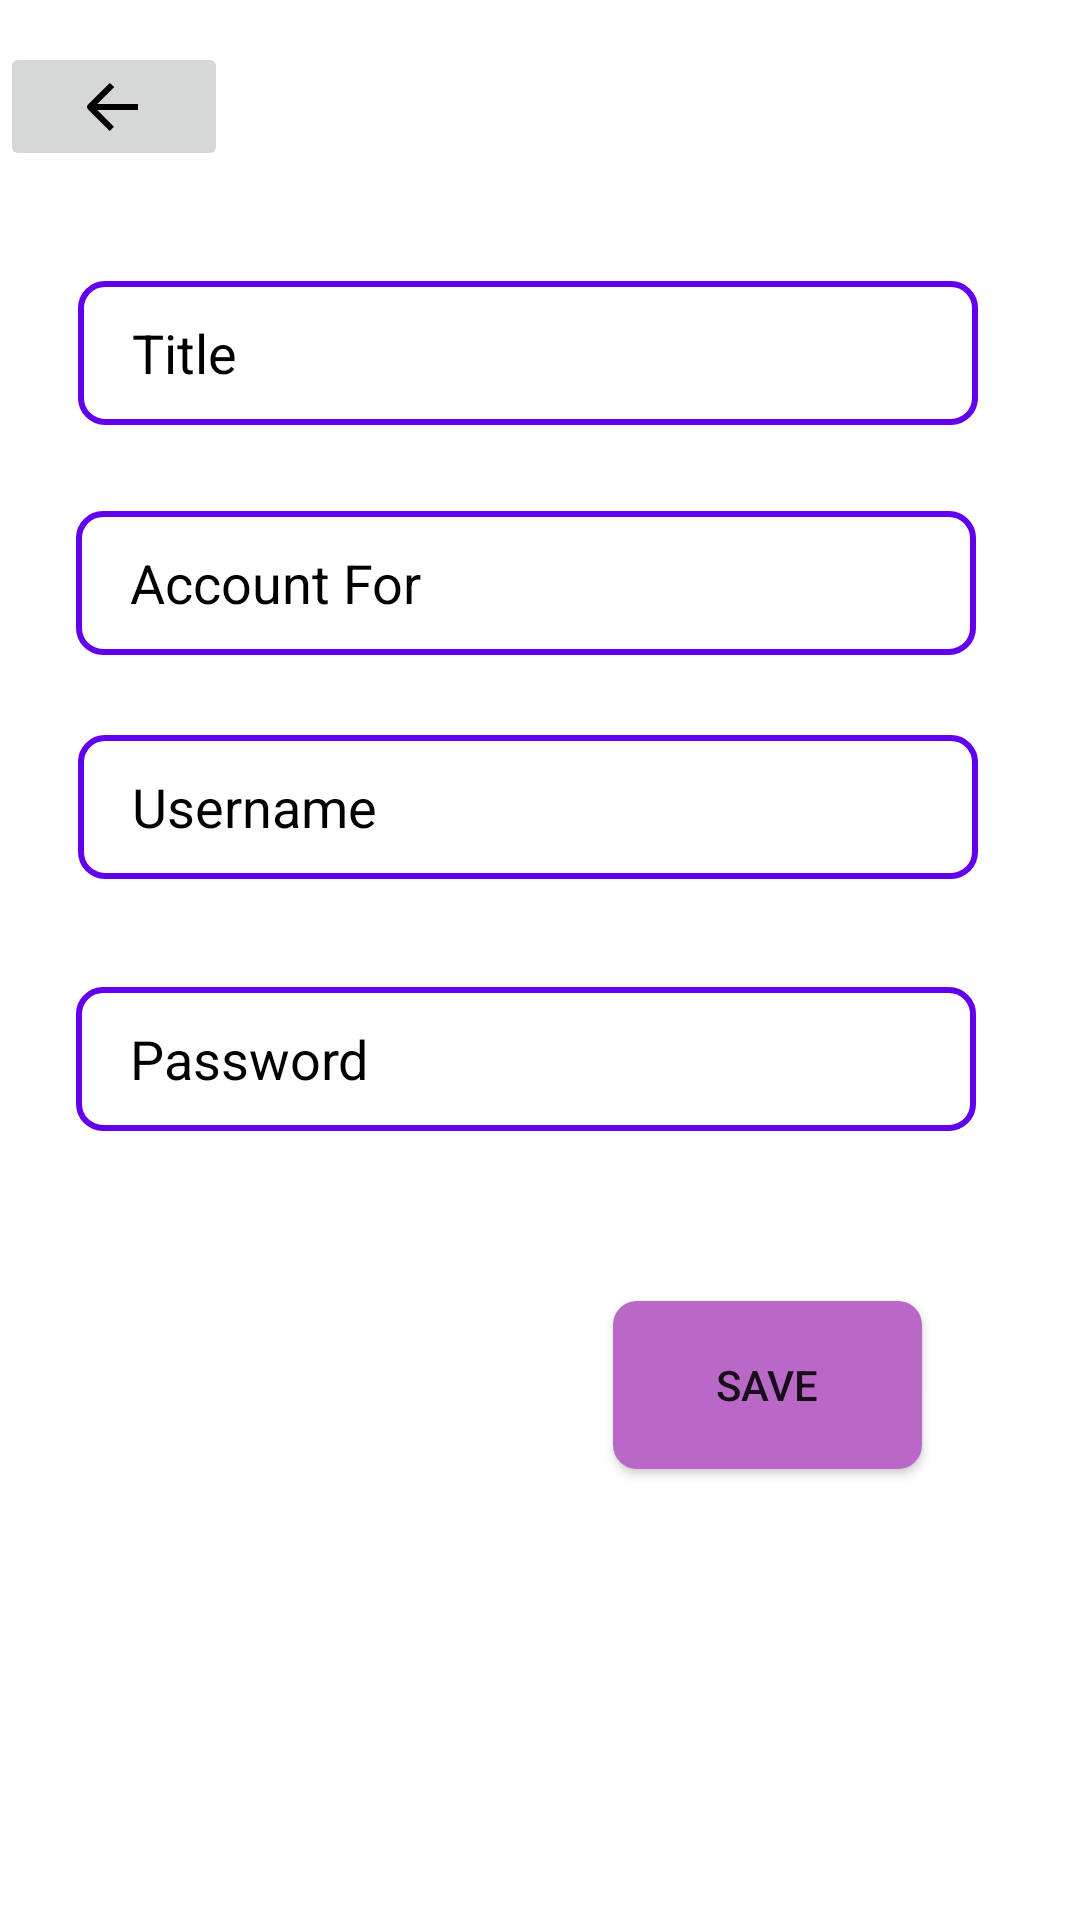

Named icons in this screenshot (1080px×1920px) and their centers, point (x, y):
back: point (114, 106)
